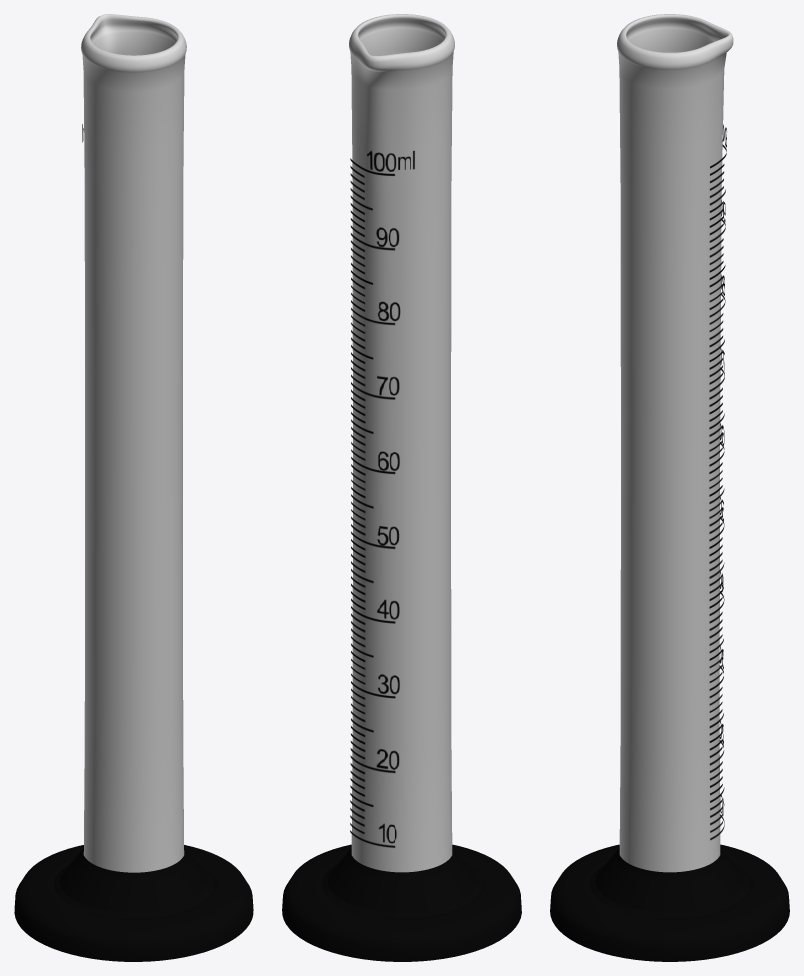
Rendered from Graduated_Cylinder_100ml.gltf.
3 renders of one model, left to right at view 1: azimuth 30°, elevation 25°; view 2: azimuth 150°, elevation 25°; view 3: azimuth 270°, elevation 25°, orthographic.
Visible parts, largest first — view 1: Cylinder.016; view 2: Cylinder.016, scale graduated cylinder; view 3: Cylinder.016, scale graduated cylinder.
Part boxes in pixels (x1=…): Cylinder.016: x1=14, y1=14, x2=253, y2=961; Cylinder.016: x1=282, y1=14, x2=521, y2=961; scale graduated cylinder: x1=350, y1=150, x2=414, y2=847; Cylinder.016: x1=550, y1=14, x2=789, y2=961; scale graduated cylinder: x1=709, y1=124, x2=726, y2=840.
Bounding box in the file's own units: 0.1887 × 0.7616 × 0.1887.
4 materials, 1 textured.
